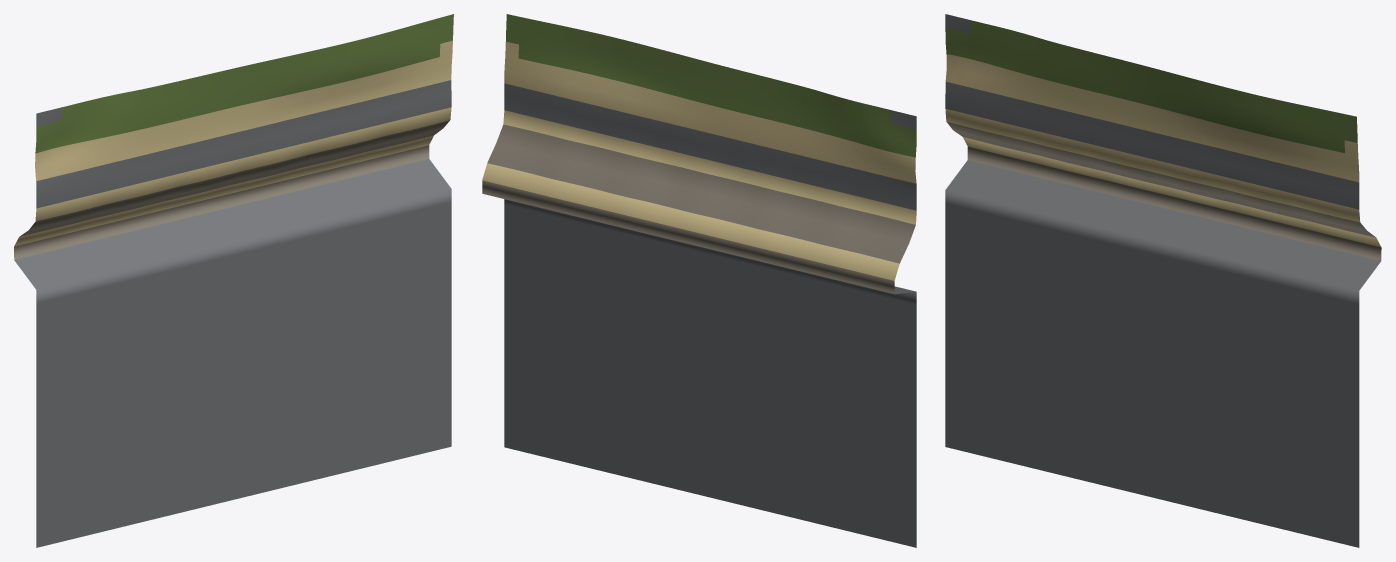
Rendered from island_terrain_14_04.obj.
The picture shows the model from 3 angles, left to right: view 1: azimuth 30°, elevation 25°; view 2: azimuth 150°, elevation 25°; view 3: azimuth 330°, elevation 25°; orthographic projection.
Visible parts, largest first — view 1: island_terrain_14_04; view 2: island_terrain_14_04; view 3: island_terrain_14_04.
Boxes of the visible parts, bbox=[...] form: island_terrain_14_04: bbox=[14, 14, 453, 547]; island_terrain_14_04: bbox=[482, 14, 916, 547]; island_terrain_14_04: bbox=[945, 14, 1381, 547].
Size of the model in its own units: 256 by 256 by 29.48.
